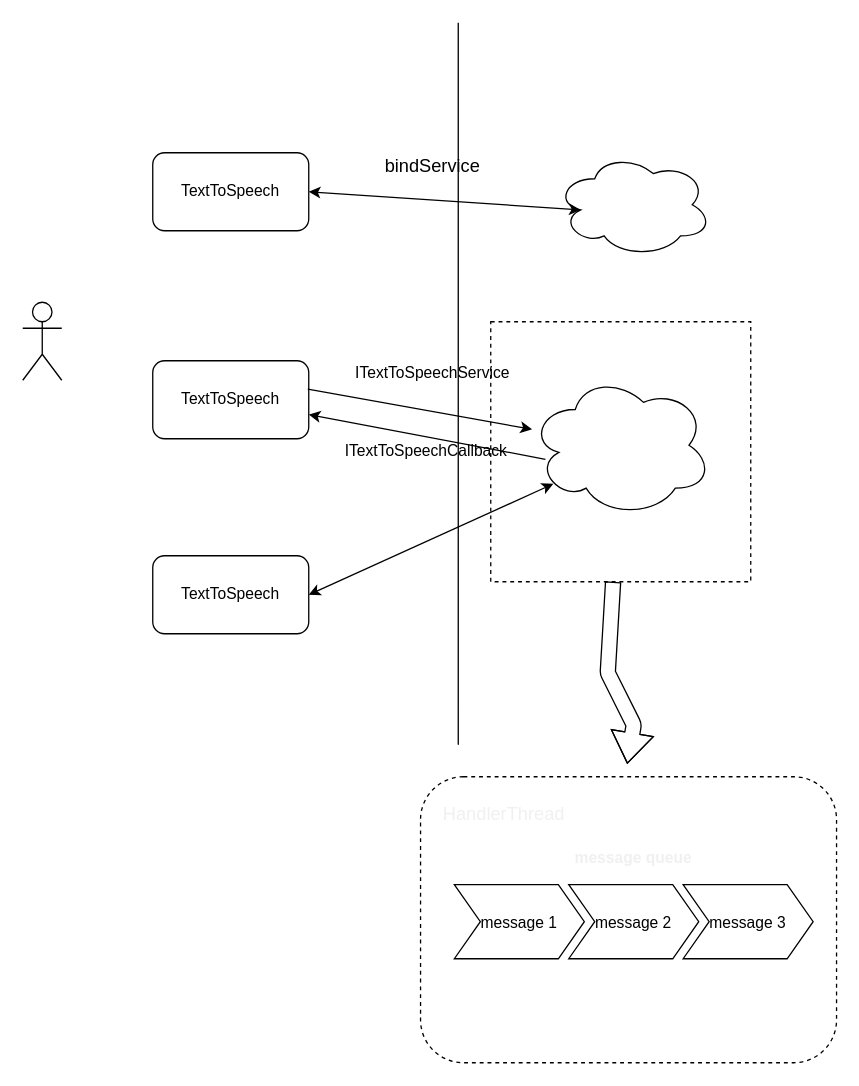
Some shapes in this 859 by 1086 pixel diagram are drawn without their labels. Each missing label, with the centre of its shape:
Actor: (x=41, y=340)
TTS service 1 Default TTS: (x=620, y=444)
TTS service 2: (x=633, y=204)
